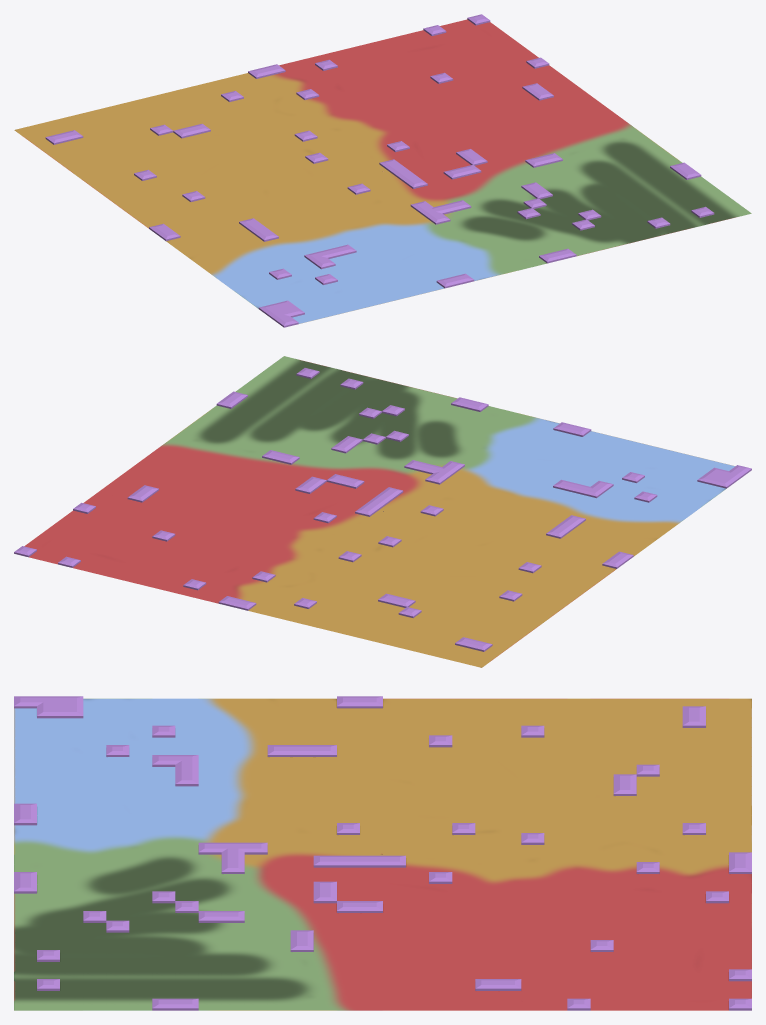
Rendered from wrap.glb.
3 views of the same model, one above another, from view 1: azimuth 30°, elevation 25°; view 2: azimuth 150°, elevation 25°; view 3: azimuth 270°, elevation 25° (orthographic). The views are drawn at different scales.
Parts seen in each view (by area): view 1: gnd, buildings; view 2: gnd, buildings; view 3: gnd, buildings.
Boxes of the visible parts, x1,y1,x2,y2 form: gnd: (14,19,751,323); buildings: (45,14,714,327); gnd: (24,356,735,667); buildings: (14,368,751,651); gnd: (14,698,751,1010); buildings: (14,696,751,1010).
Size of what is drawn, in the model's own units: 1500 by 7.8 by 1500.
2 materials, 1 textured.
